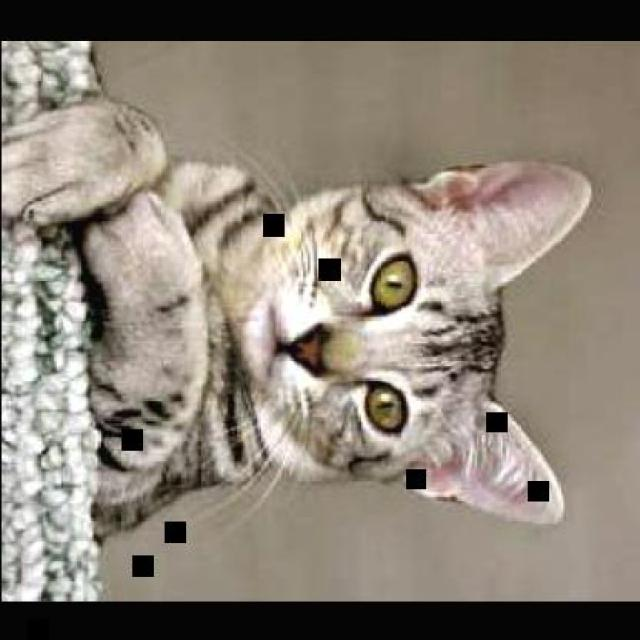unauthorized: (74, 149, 592, 542)
